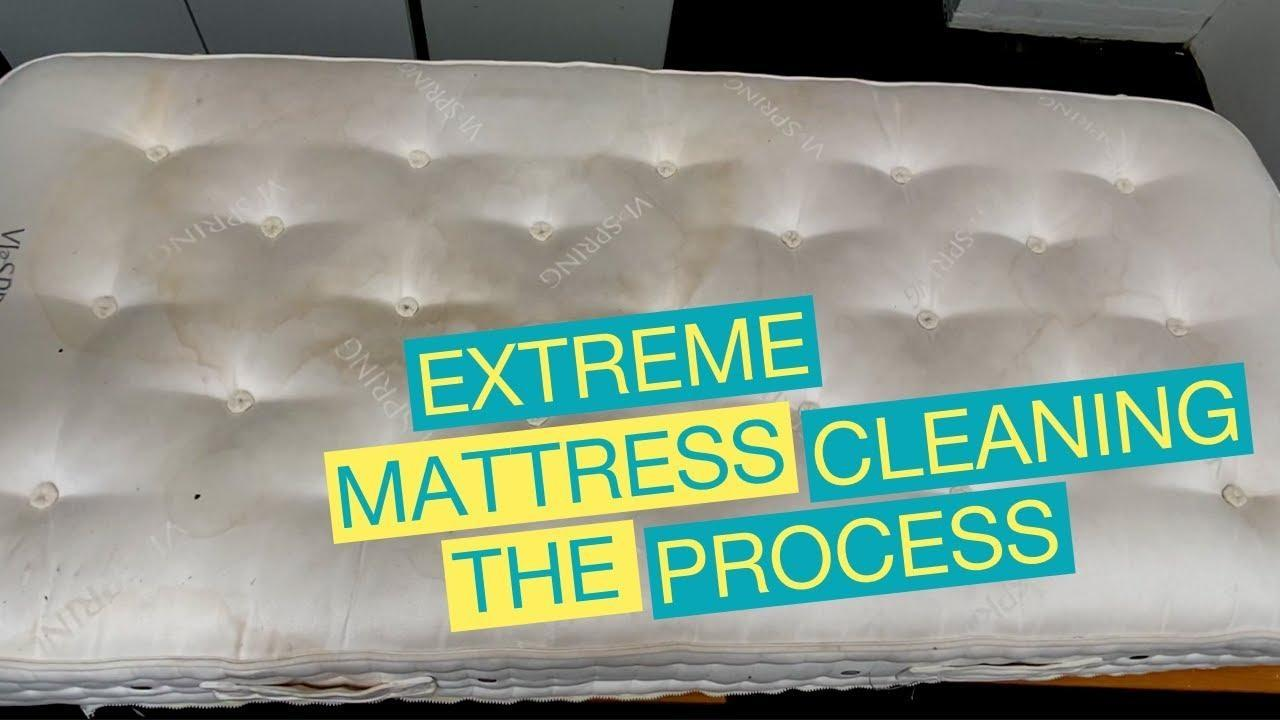Bed-Mattress: (0, 46, 1280, 718)
